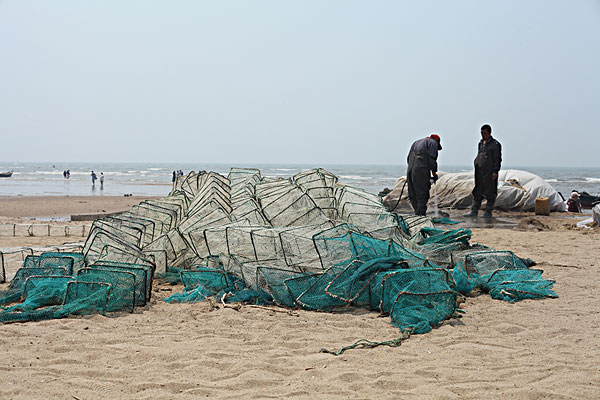net: (363, 297, 450, 350), (341, 247, 412, 290), (6, 281, 85, 317), (451, 269, 521, 304), (180, 273, 253, 306), (419, 219, 484, 250)
